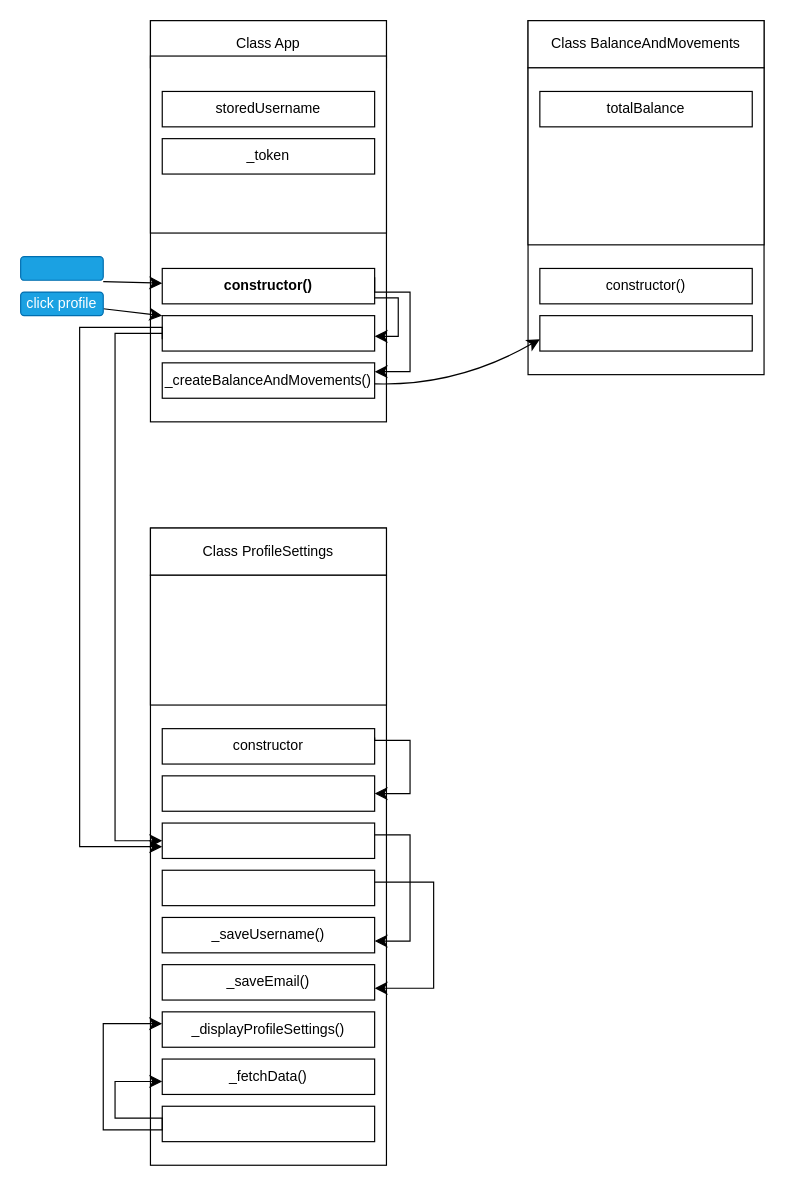
Some shapes in this 785 by 1186 pixel diagram are drawn without their labels. Each missing label, with the centre of its shape:
_createProfileSettings(): [268,332]
editEmail(): [268,887]
editUsername(): [268,840]
fetchBalance(): [645,332]
load app: [61,267]
settingsEvent(): [268,1123]
setWelcomeMessage(): [268,793]
